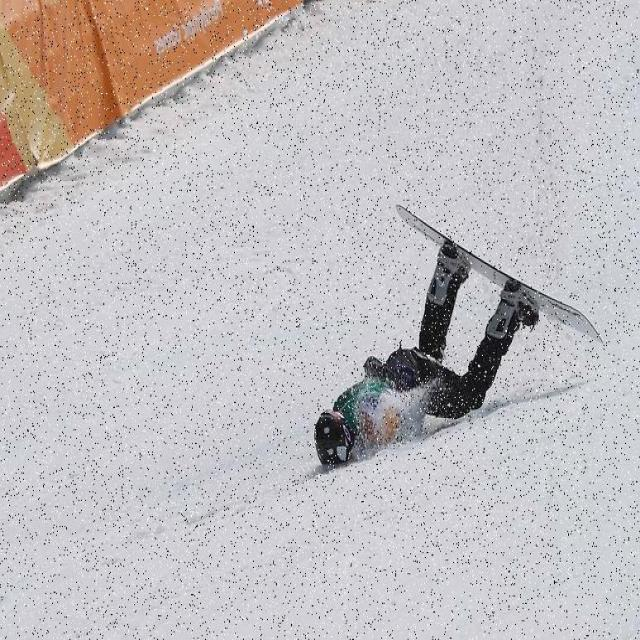fall: (310, 276, 502, 468)
